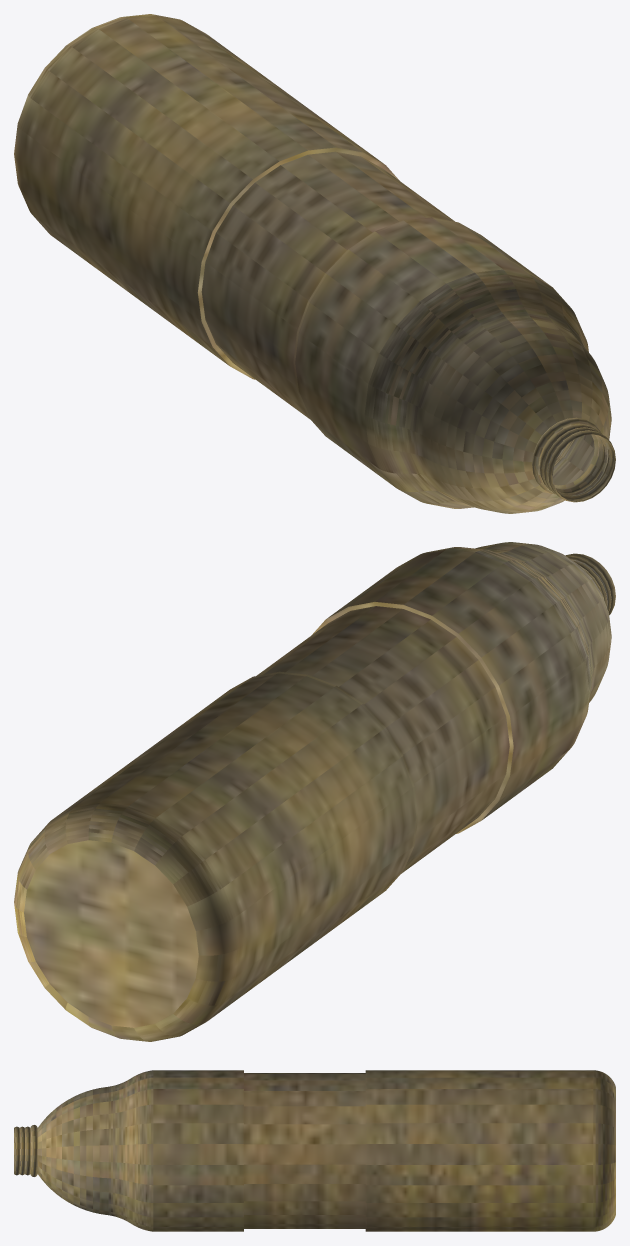
Rendered from model_align.obj.
3 renders of one model, top to bottom at view 1: azimuth 30°, elevation 25°; view 2: azimuth 150°, elevation 25°; view 3: azimuth 270°, elevation 25°, orthographic. The views are drawn at different scales.
Visible parts, largest first — view 1: mesh2_mesh2-geometry, mesh1_mesh1-geometry; view 2: mesh2_mesh2-geometry; view 3: mesh2_mesh2-geometry.
Part boxes in pixels (left/top/right/bottom): mesh2_mesh2-geometry: left=14, top=14, right=615, bottom=513; mesh1_mesh1-geometry: left=552, top=434, right=607, bottom=495; mesh2_mesh2-geometry: left=14, top=542, right=615, bottom=1041; mesh2_mesh2-geometry: left=14, top=1070, right=615, bottom=1231.
Bounding box in the file's own units: 0.0718 × 0.0718 × 0.2668.
